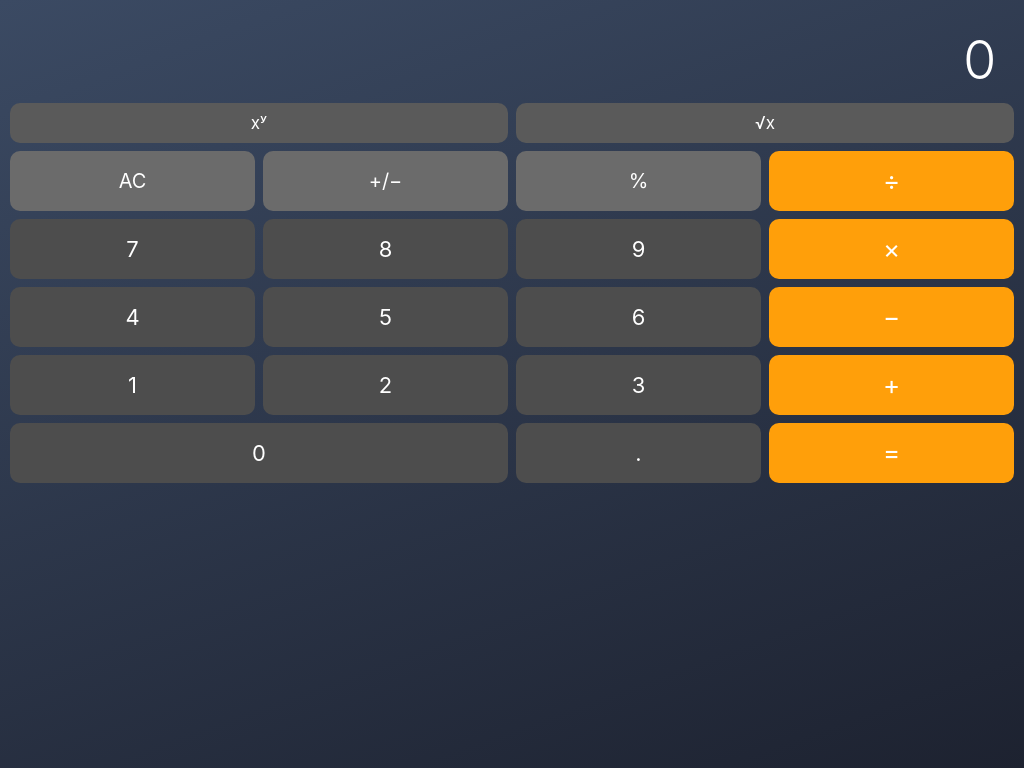
Calculator › sends the operands to the API and shows the result
Click the button "6" at (638, 317), box [516,287,761,347]
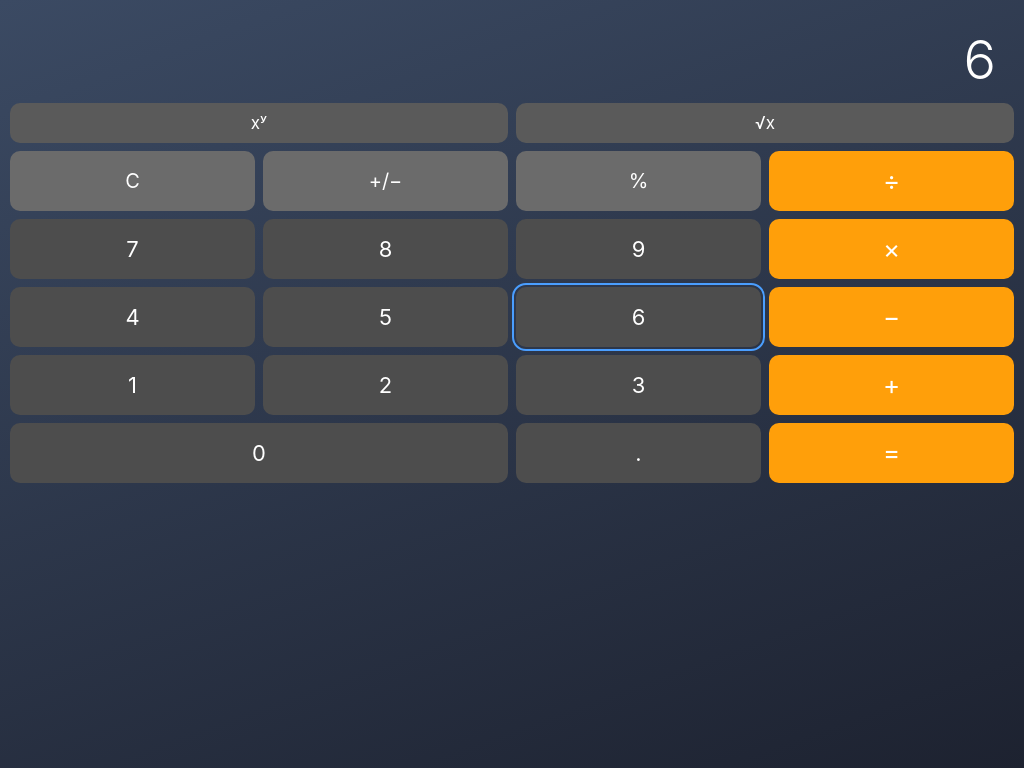
Click the button named "Multiply" at (892, 249), box [769,219,1014,279]
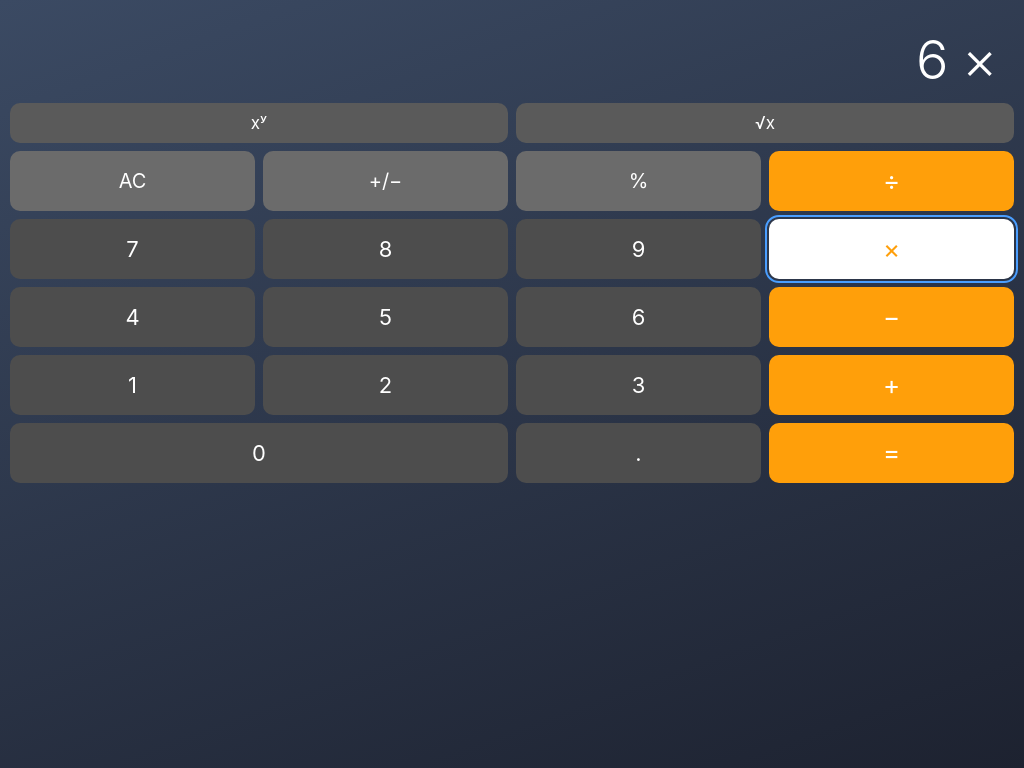
Click the button "7" at (132, 249), box [10,219,255,279]
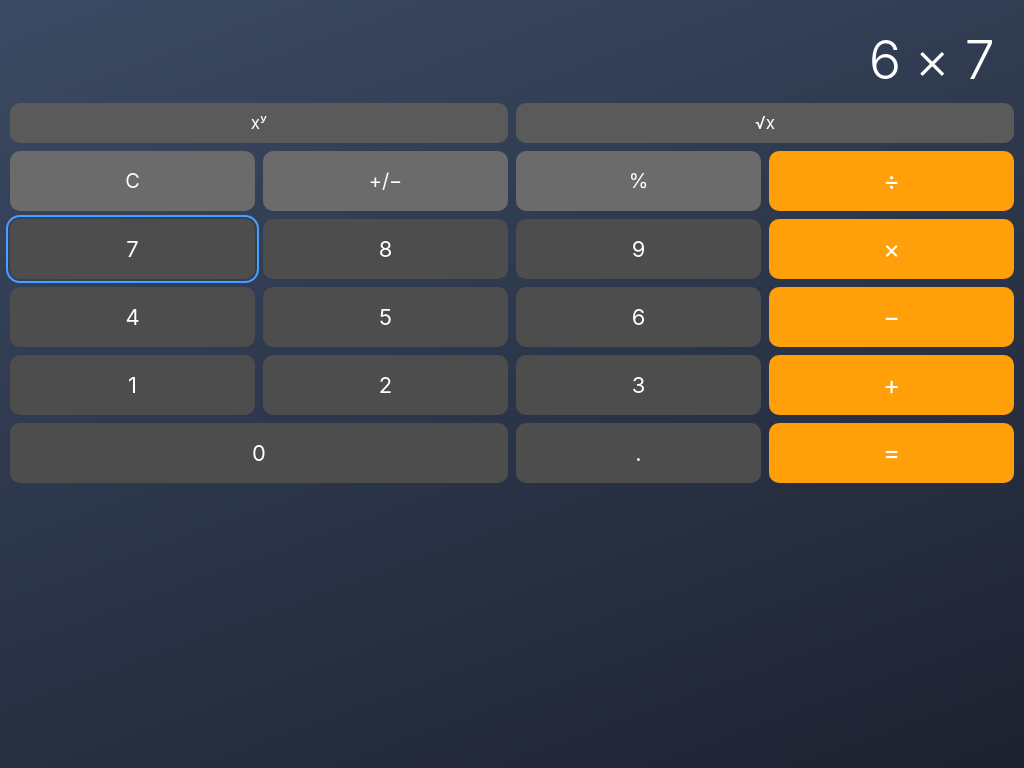
Click the button named "Equals" at (892, 453), box [769,423,1014,483]
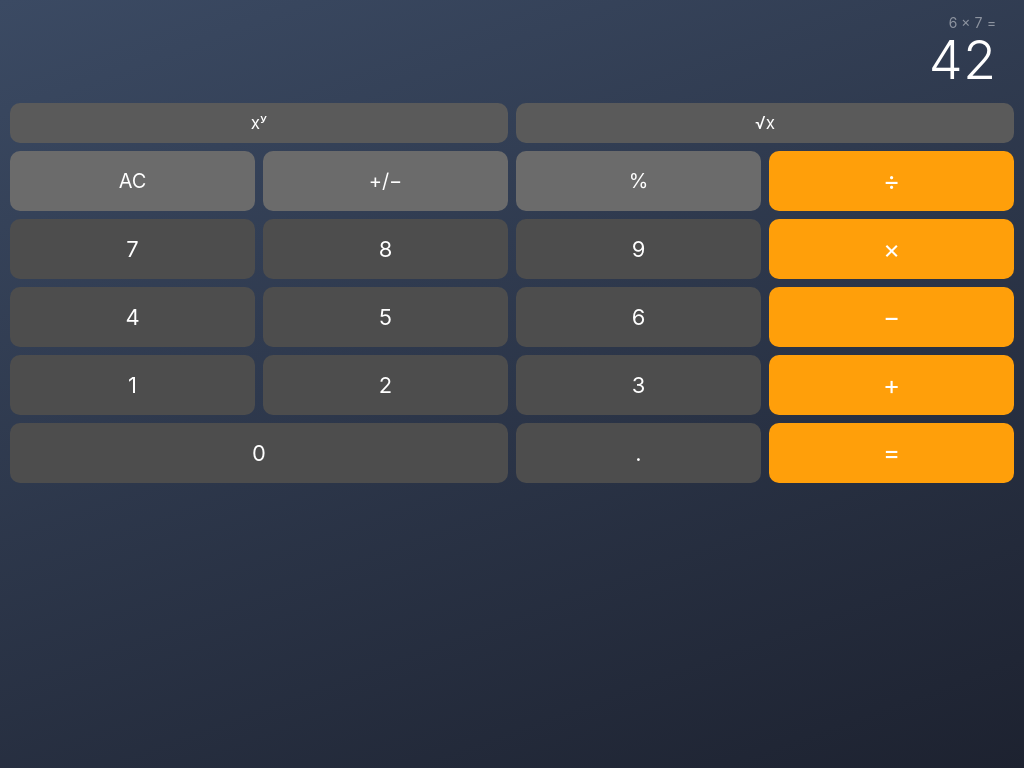
expect the text "42" is shown: met, box [928,32,996,89]
